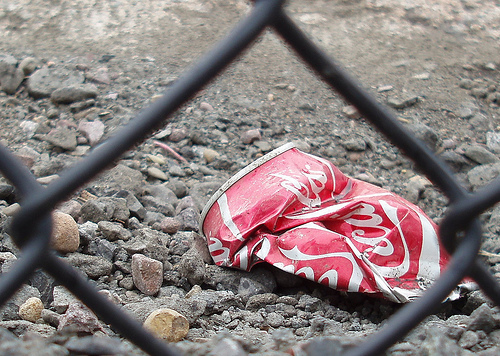litter: (200, 140, 483, 304)
